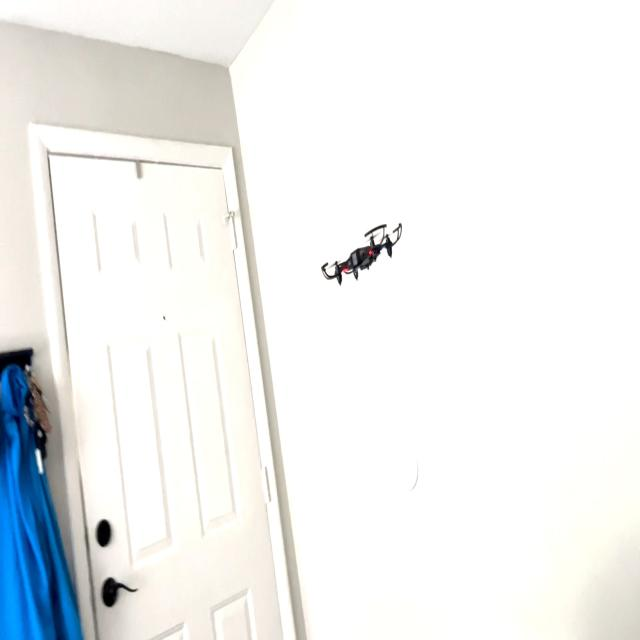drone: (316, 214, 410, 292)
